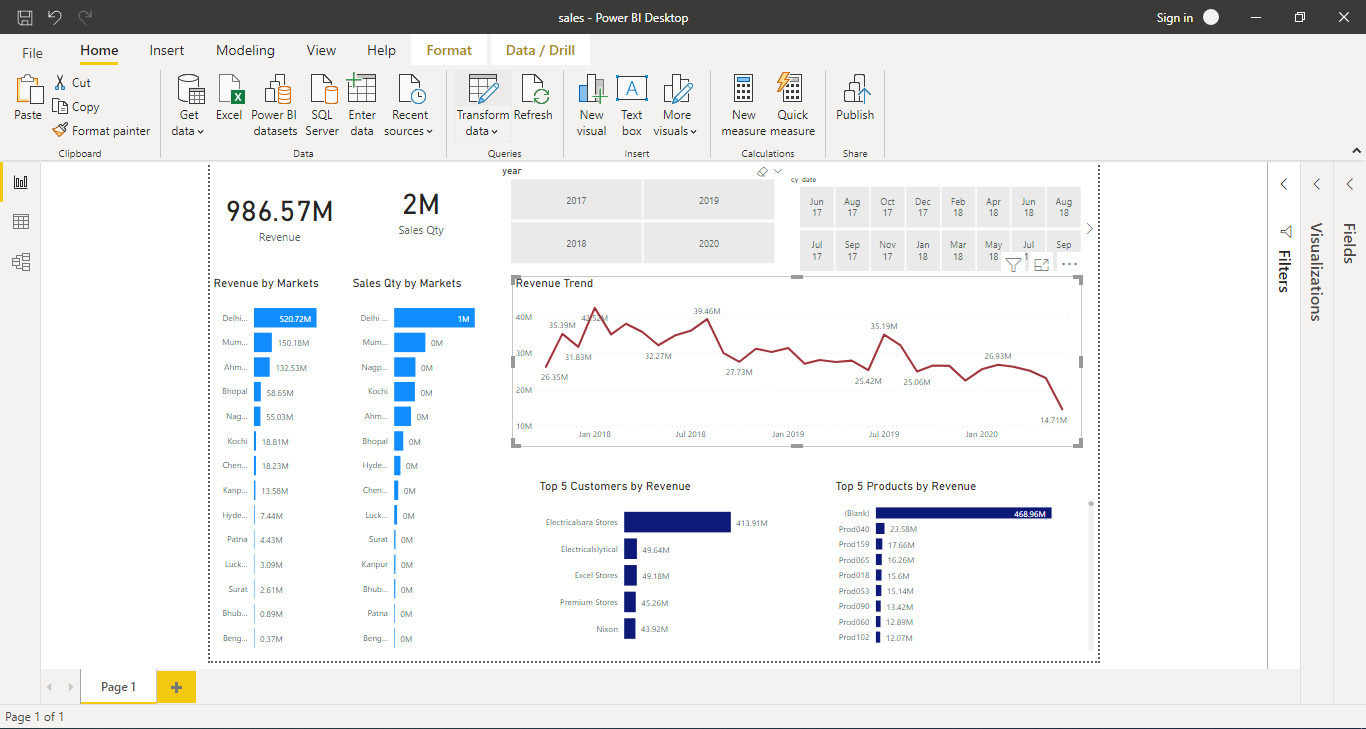

What the dashboard file says about the page in this screenshot:
{"tool":"powerbi","page":{"name":"Page 1","canvas":[1280,720],"ordinal":0},"visuals":[{"type":"card","fields":{"Values":["Base_Measures.Revenue"]},"box":[0,0,200.6,152.9],"z":0},{"type":"card","fields":{"Values":["Base_Measures.Sales Qty"]},"box":[200.6,0,207.8,131.3],"z":1},{"type":"clusteredBarChart","title":"Revenue by Markets","fields":{"Y":["Base_Measures.Revenue"],"Category":["sales markets.markets_name","sales customers.custmer_name"]},"box":[0,164.5,200.6,555.5],"z":2},{"type":"clusteredBarChart","title":"Sales Qty by Markets","fields":{"Y":["Base_Measures.Sales Qty"],"Category":["sales markets.markets_name"]},"box":[200.6,164.5,207.8,555.5],"z":3},{"type":"slicer","fields":{"Values":["sales date.year"]},"box":[408.2,0,430,152.9],"z":4},{"type":"slicer","fields":{"Values":["sales date.cy_date"]},"box":[824.8,15.1,455.2,149.5],"z":5},{"type":"clusteredBarChart","title":"Top 5 Customers by Revenue","fields":{"Y":["Base_Measures.Revenue"],"Category":["sales customers.custmer_name"]},"box":[470.3,456.9,342.7,252],"z":6},{"type":"clusteredBarChart","title":"Top 5 Products by Revenue","fields":{"Y":["Base_Measures.Revenue"],"Category":["sales products.product_code"]},"box":[897,456.9,383,252],"z":7},{"type":"lineChart","title":"Revenue Trend","fields":{"Y":["Base_Measures.Revenue"],"Category":["sales date.cy_date"]},"box":[435.1,164.6,823.1,246.9],"z":8}]}

Visuals, with their boxes on the page's 1280x720 design canvas (x1, y1, x2, y2). These are canvas units, not pixel positions in the 1366x729 screenshot, which may show the page scaled, cropped or inside an application window:
card - Base_Measures.Revenue: box(0, 0, 201, 153)
card - Base_Measures.Sales Qty: box(201, 0, 408, 131)
"Revenue by Markets" clusteredBarChart: box(0, 164, 201, 720)
"Sales Qty by Markets" clusteredBarChart: box(201, 164, 408, 720)
slicer - sales date.year: box(408, 0, 838, 153)
slicer - sales date.cy_date: box(825, 15, 1280, 165)
"Top 5 Customers by Revenue" clusteredBarChart: box(470, 457, 813, 709)
"Top 5 Products by Revenue" clusteredBarChart: box(897, 457, 1280, 709)
"Revenue Trend" lineChart: box(435, 165, 1258, 412)
